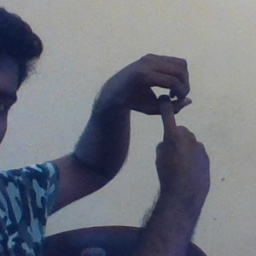Q: (101, 43, 215, 182)
